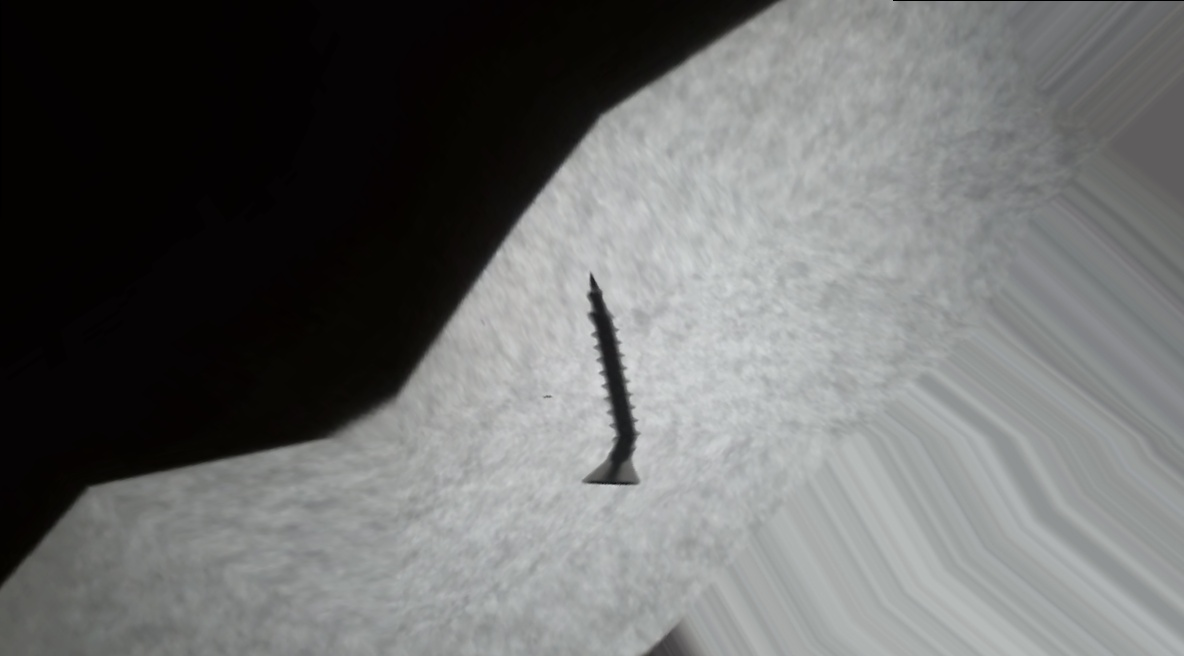S001: (495, 221, 744, 534)
